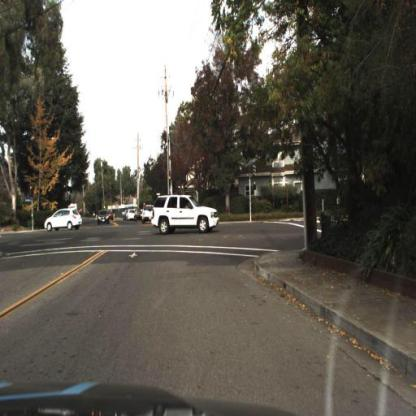car: (151, 191, 219, 237), (43, 207, 86, 233), (140, 205, 157, 227), (97, 208, 113, 226)
trafficLight-Red: (169, 168, 177, 191), (167, 174, 174, 192)
